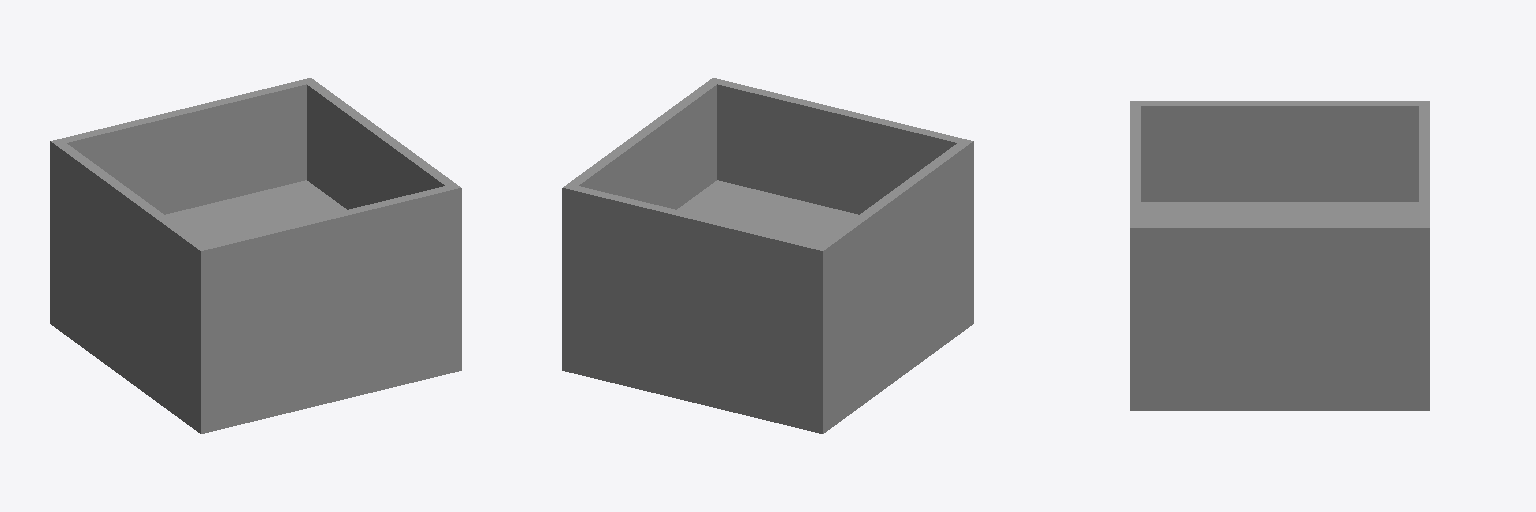
The model's file is auto_sifter_box.obj.
3 renders of one model, left to right at view 1: azimuth 30°, elevation 25°; view 2: azimuth 150°, elevation 25°; view 3: azimuth 270°, elevation 25°, orthographic.
Parts seen in each view (by area): view 1: Cube.007_Cube.009; view 2: Cube.007_Cube.009; view 3: Cube.007_Cube.009.
Boxes of the visible parts, x1,y1,x2,y2 form: Cube.007_Cube.009: [50, 78, 461, 433]; Cube.007_Cube.009: [562, 78, 973, 433]; Cube.007_Cube.009: [1130, 101, 1429, 410].
Bounding box in the file's own units: 2 × 1.34 × 2.